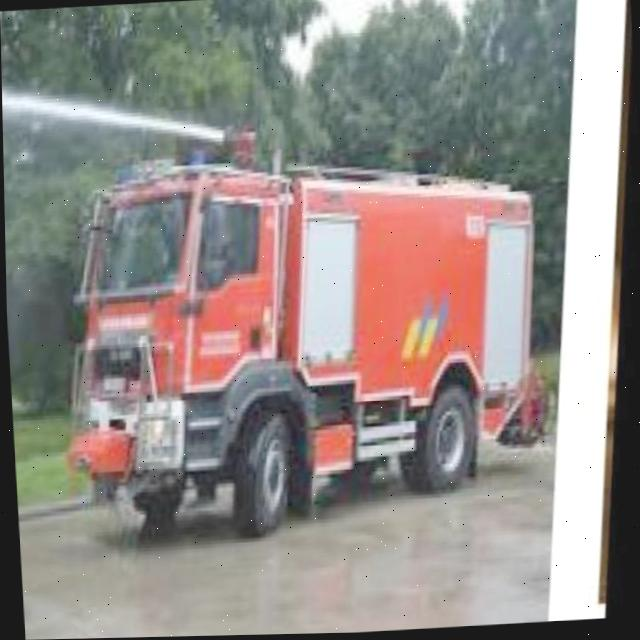emergency: (46, 109, 553, 549)
